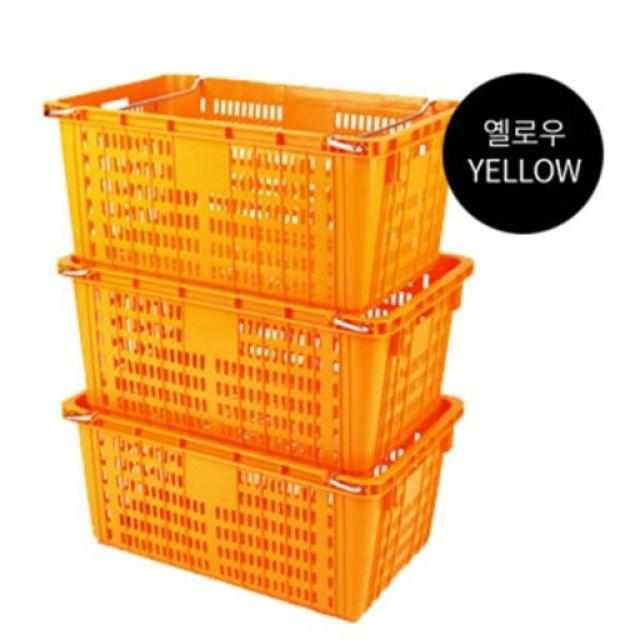basket: (28, 61, 457, 318), (61, 395, 465, 623), (58, 254, 474, 475)
